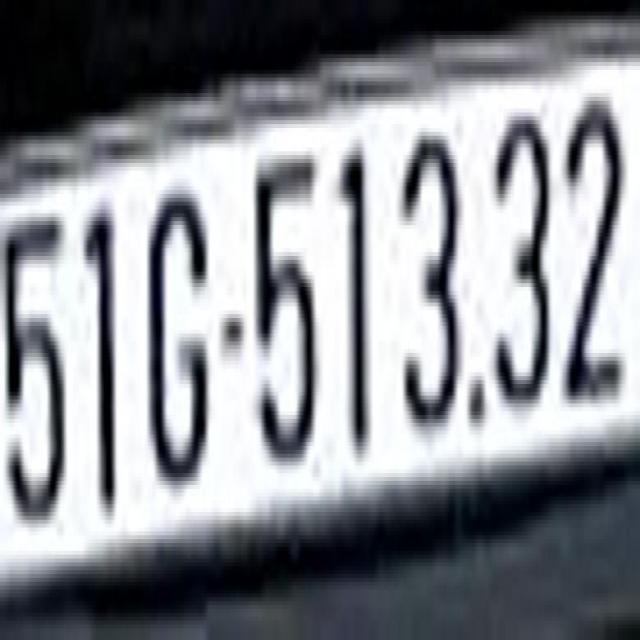1: (329, 124, 386, 473), (78, 178, 130, 524)
2: (562, 54, 625, 414)
3: (399, 97, 462, 450), (493, 58, 552, 427)
5: (248, 140, 324, 473), (4, 198, 67, 540)
G: (142, 166, 210, 496)
